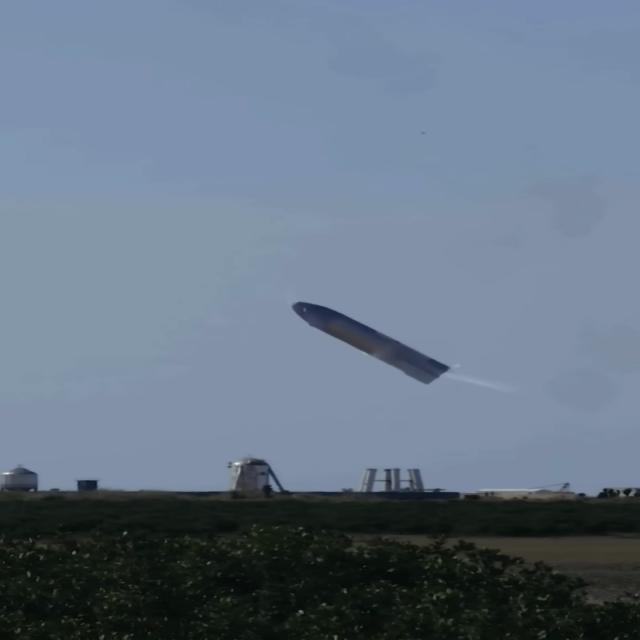missile: (292, 295, 448, 382)
